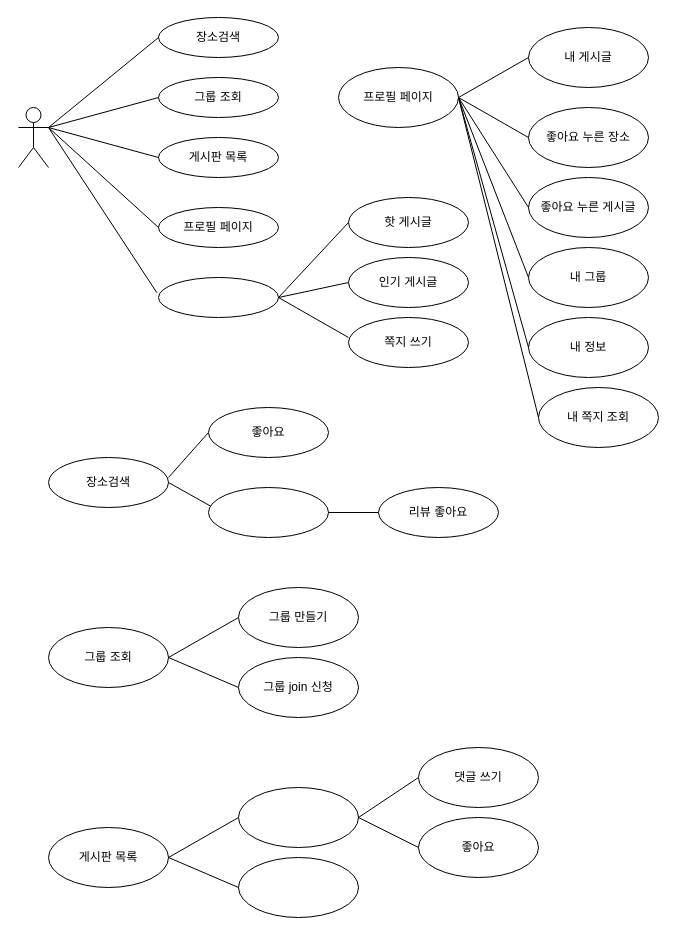
This 676x935 diagram has some shape labels left out. Each missing label, with the centre of its shape:
SideBar: point 218,297
리뷰 등록: point 268,512
맞는 카테고리를 조회 가능: point 298,817
사용자: point 33,137
카테고리에 맞게 글 작성: point 298,887
